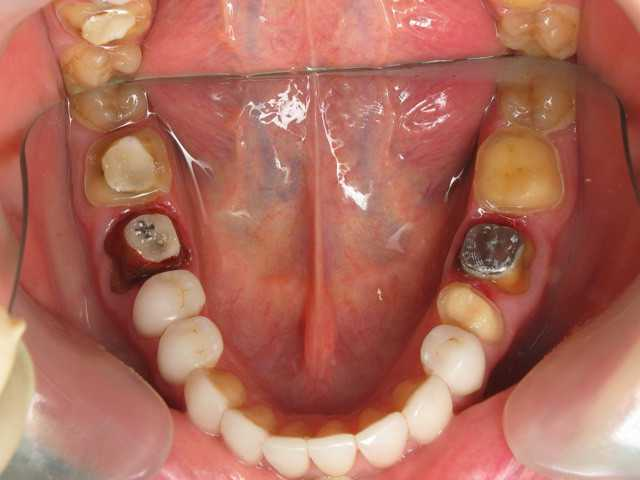LL1BC_decay: (419, 325, 487, 396)
LL1M_decay: (457, 215, 531, 297)
LL2BC_decay: (430, 280, 506, 346)
LL2M_healthy: (476, 133, 565, 217)
LLCI_healthy: (309, 432, 357, 476)
LLC_healthy: (406, 379, 453, 443)
LLLI_healthy: (357, 412, 407, 469)
LR1BC_decay: (156, 315, 223, 386)
LR1M_decay: (104, 206, 191, 287)
LR2BC_decay: (131, 269, 208, 336)
LR2M_decay: (85, 125, 171, 211)
LRCI_healthy: (263, 431, 309, 477)
LRC_healthy: (185, 371, 227, 436)
LRLI_healthy: (222, 410, 265, 464)
